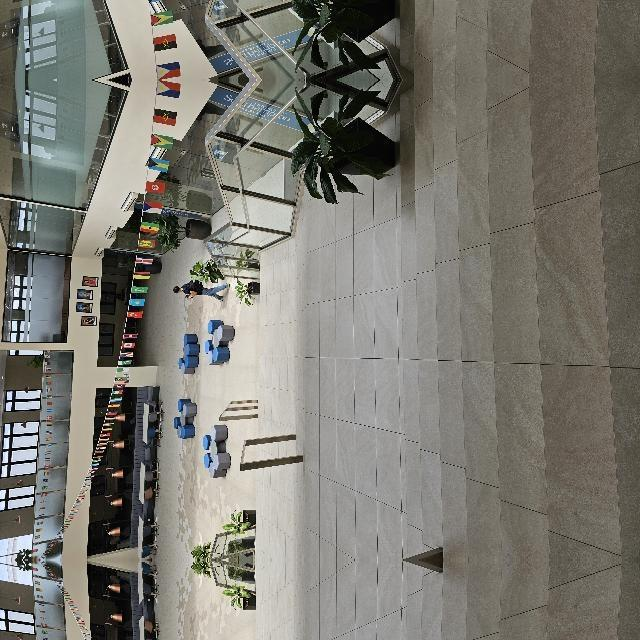obstacle: (360, 368, 458, 478), (82, 316, 132, 384), (188, 282, 242, 316), (76, 284, 142, 310), (138, 296, 168, 342), (25, 306, 57, 342), (260, 313, 280, 339)
person: (260, 243, 284, 309)
